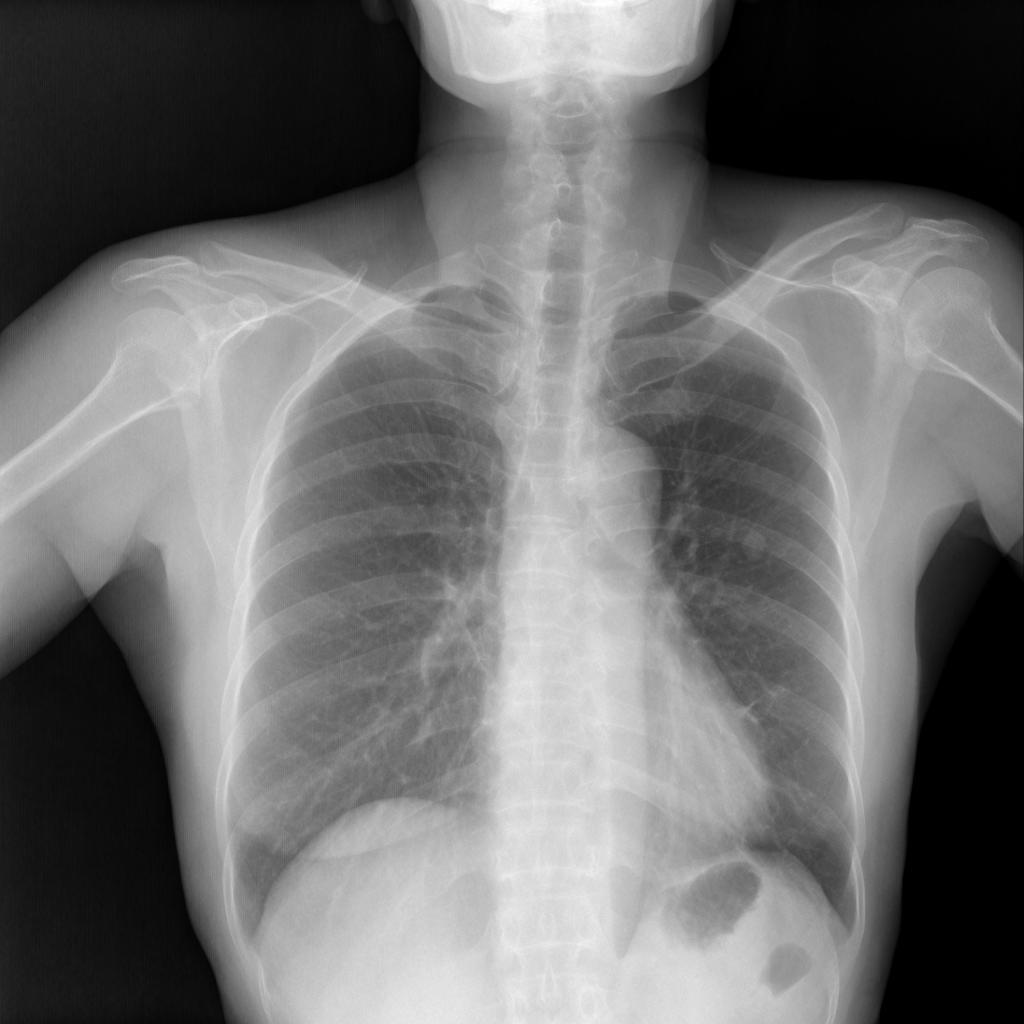Nodule: (733, 522, 774, 569)
